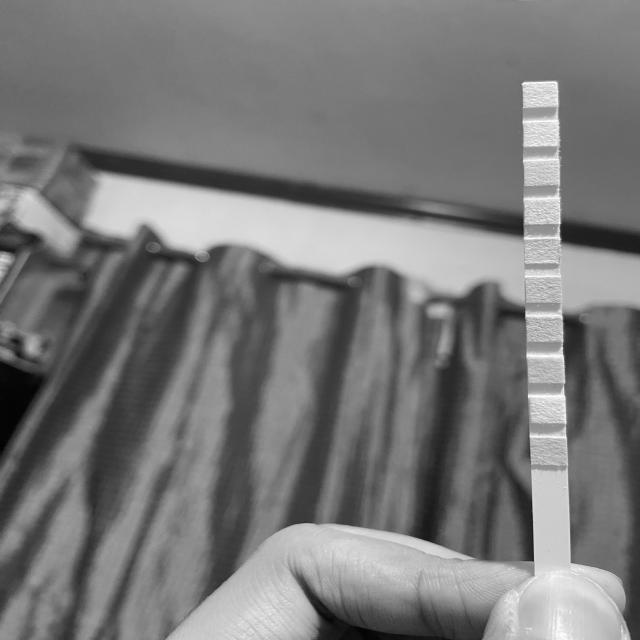Bilirubin: (530, 397, 566, 424)
Blood: (526, 276, 562, 302)
Glucose: (530, 438, 568, 464)
Ketone: (528, 357, 564, 383)
Leukocytes: (523, 83, 558, 107)
Nitrite: (523, 122, 558, 146)
Protein: (524, 200, 560, 224)
SpGravity: (526, 316, 563, 342)
Urobilinogen: (524, 161, 560, 186)
background: (0, 0, 640, 640)
pH: (524, 239, 560, 264)
strip: (521, 81, 571, 557)
